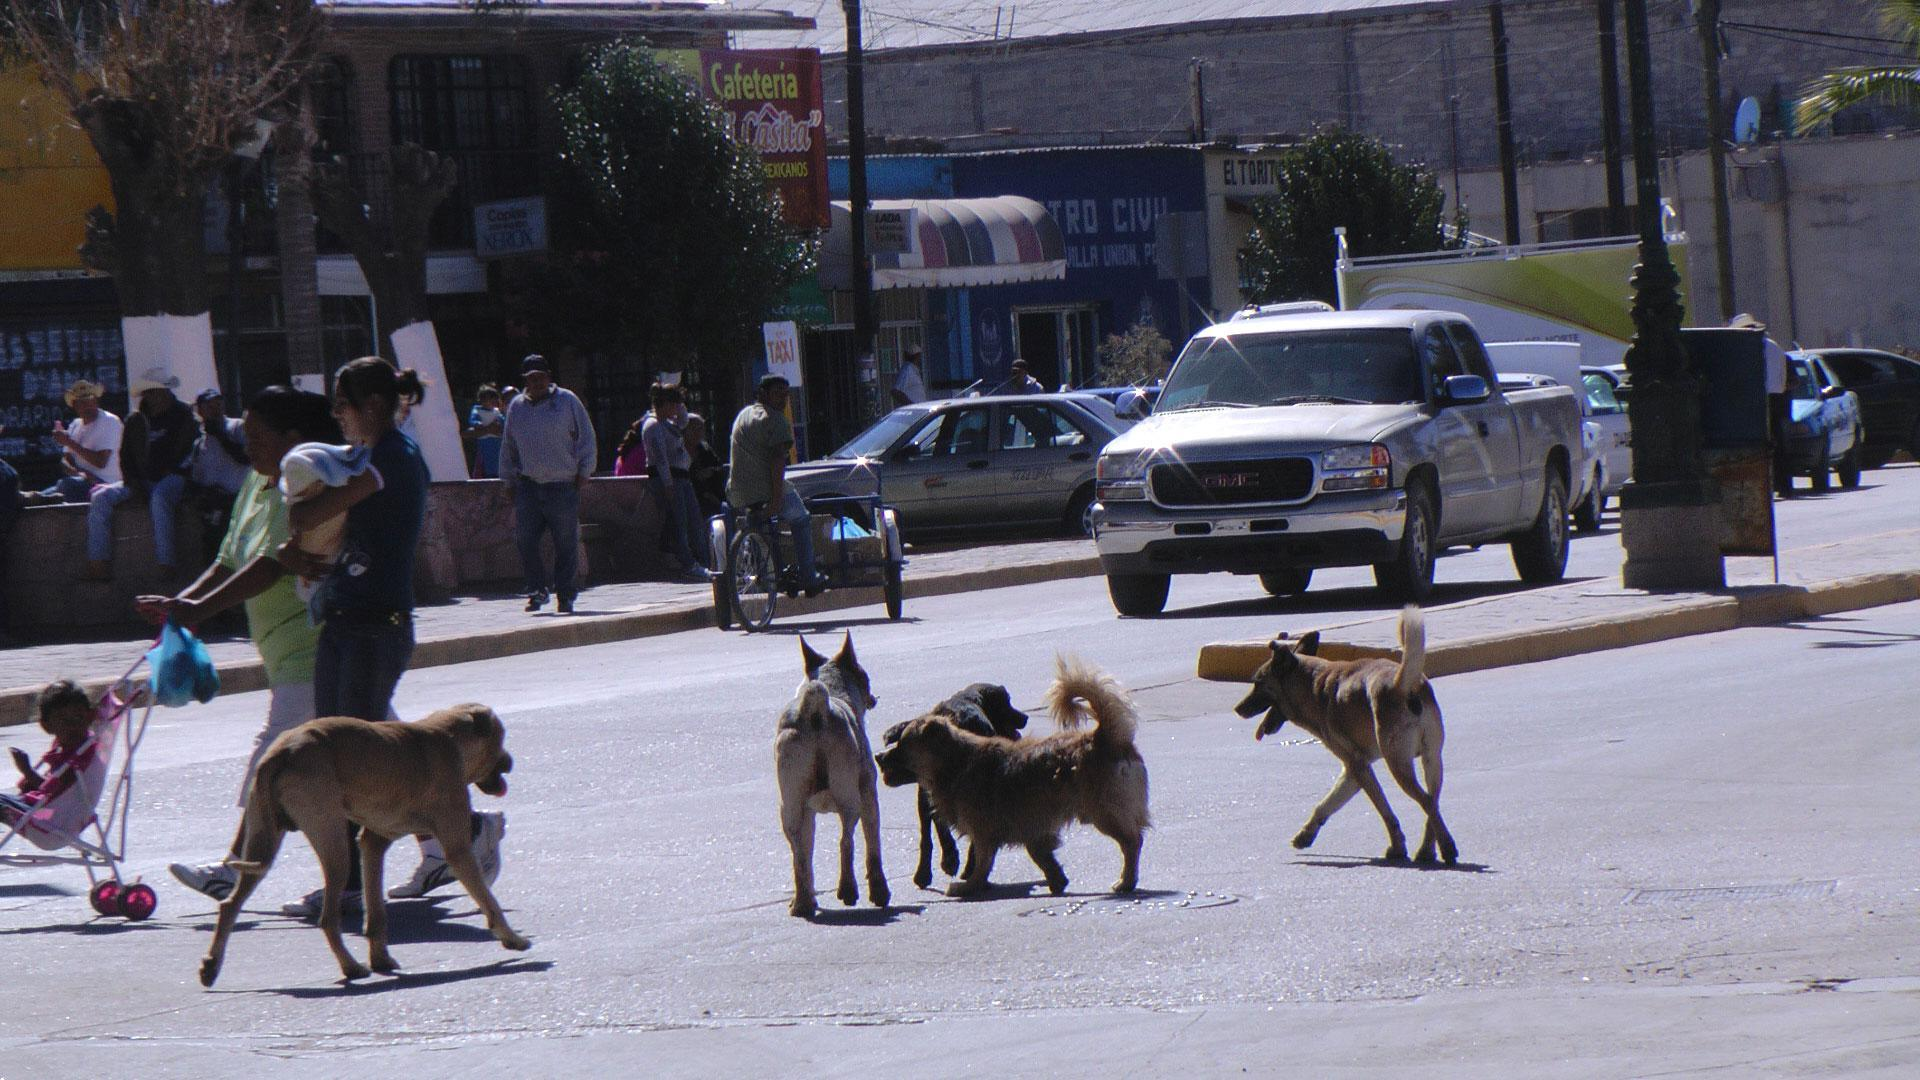dog_aggressive: (210, 684, 555, 992)
normal_dogs: (870, 680, 1182, 905), (1230, 626, 1485, 881), (766, 632, 906, 930), (928, 658, 1036, 741)
